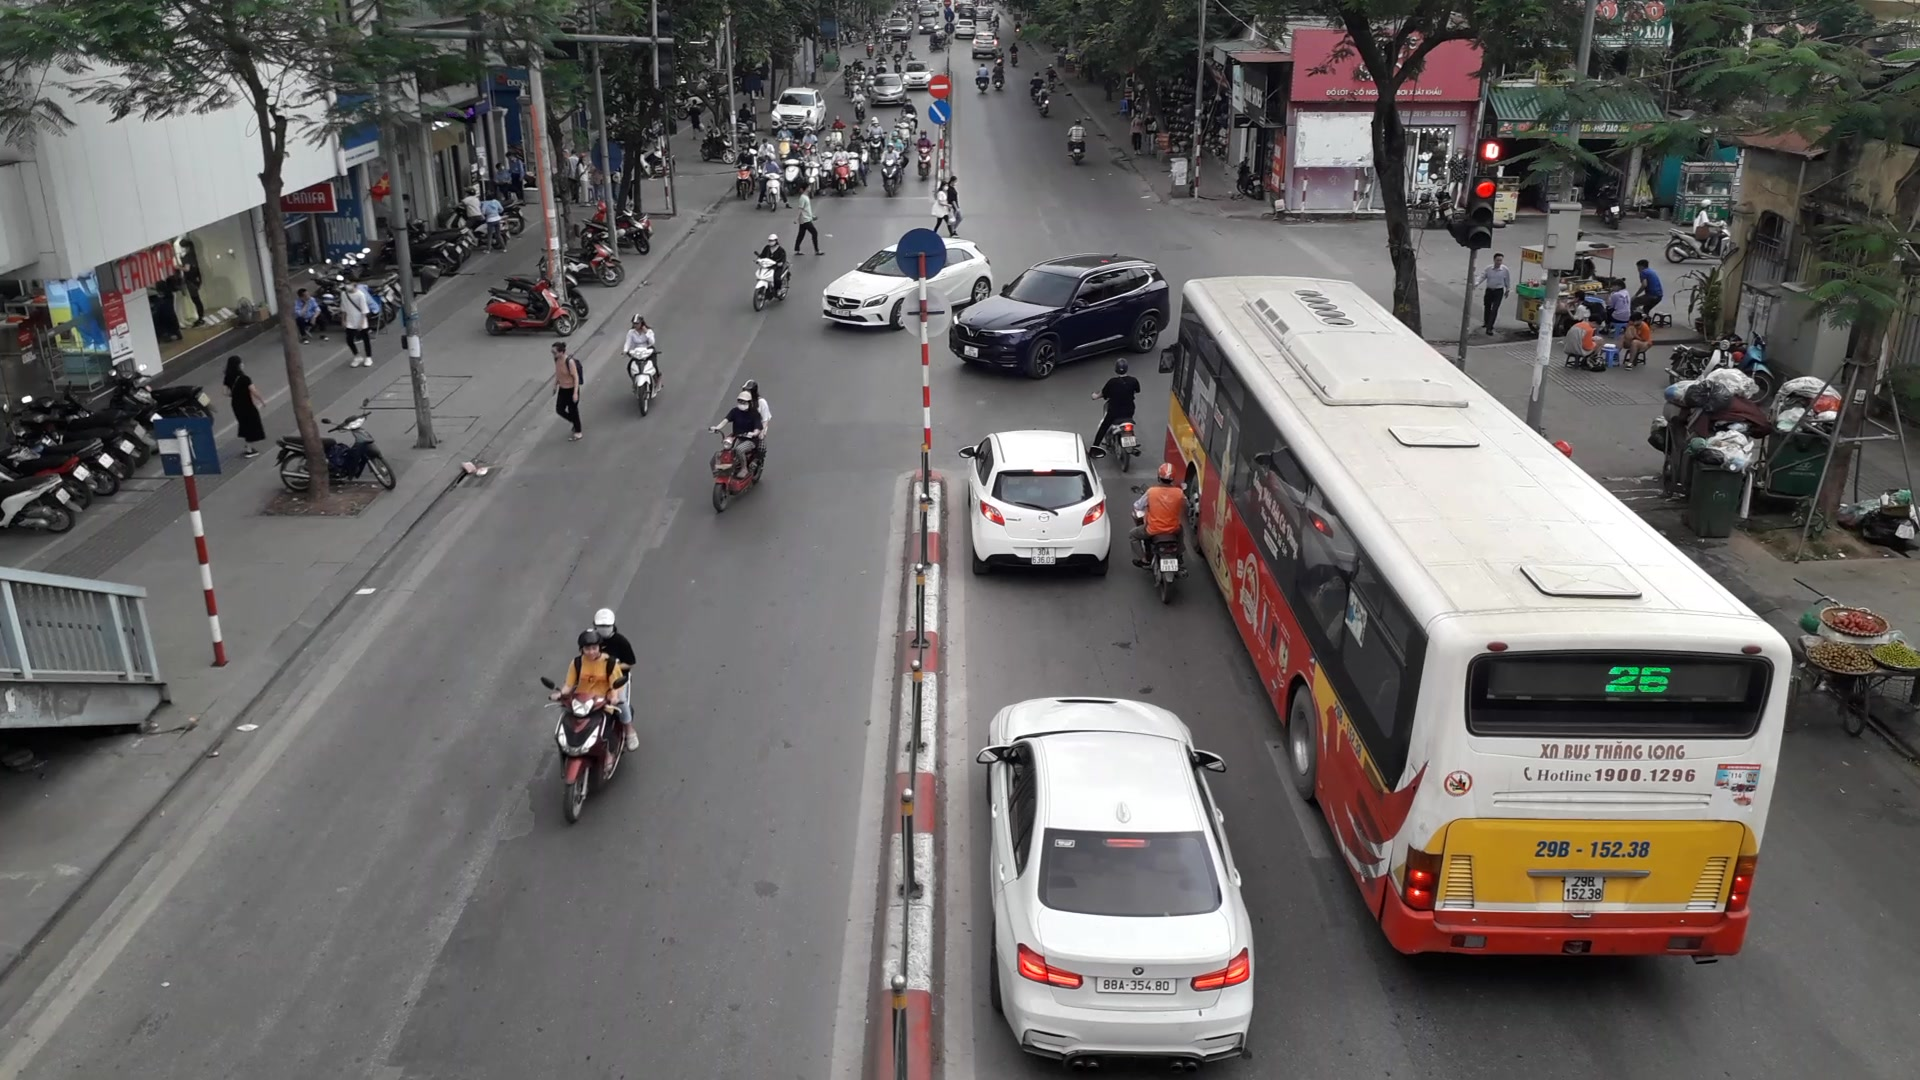bus: (1162, 276, 1791, 963)
car: (975, 695, 1255, 1073), (949, 253, 1170, 381), (957, 429, 1112, 576), (820, 236, 994, 331), (770, 86, 825, 136), (868, 73, 907, 108), (865, 117, 887, 165), (902, 61, 934, 90)
motor: (541, 607, 640, 825), (1129, 462, 1188, 603), (1091, 357, 1142, 473), (621, 313, 663, 417), (752, 233, 791, 313), (760, 152, 785, 211), (878, 142, 905, 196), (732, 144, 756, 200), (829, 141, 852, 196), (913, 129, 936, 181), (782, 142, 804, 196), (802, 144, 823, 199), (1065, 117, 1087, 166), (847, 135, 865, 189), (819, 135, 835, 190)
